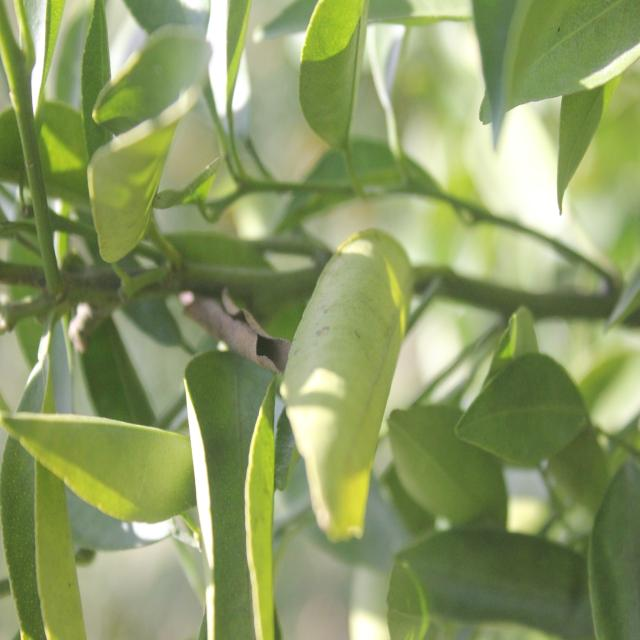melanose: (285, 235, 407, 518)
